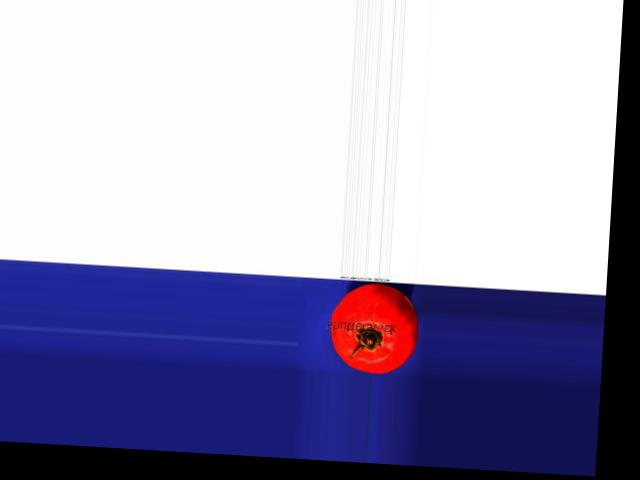tomato: (328, 282, 421, 375)
